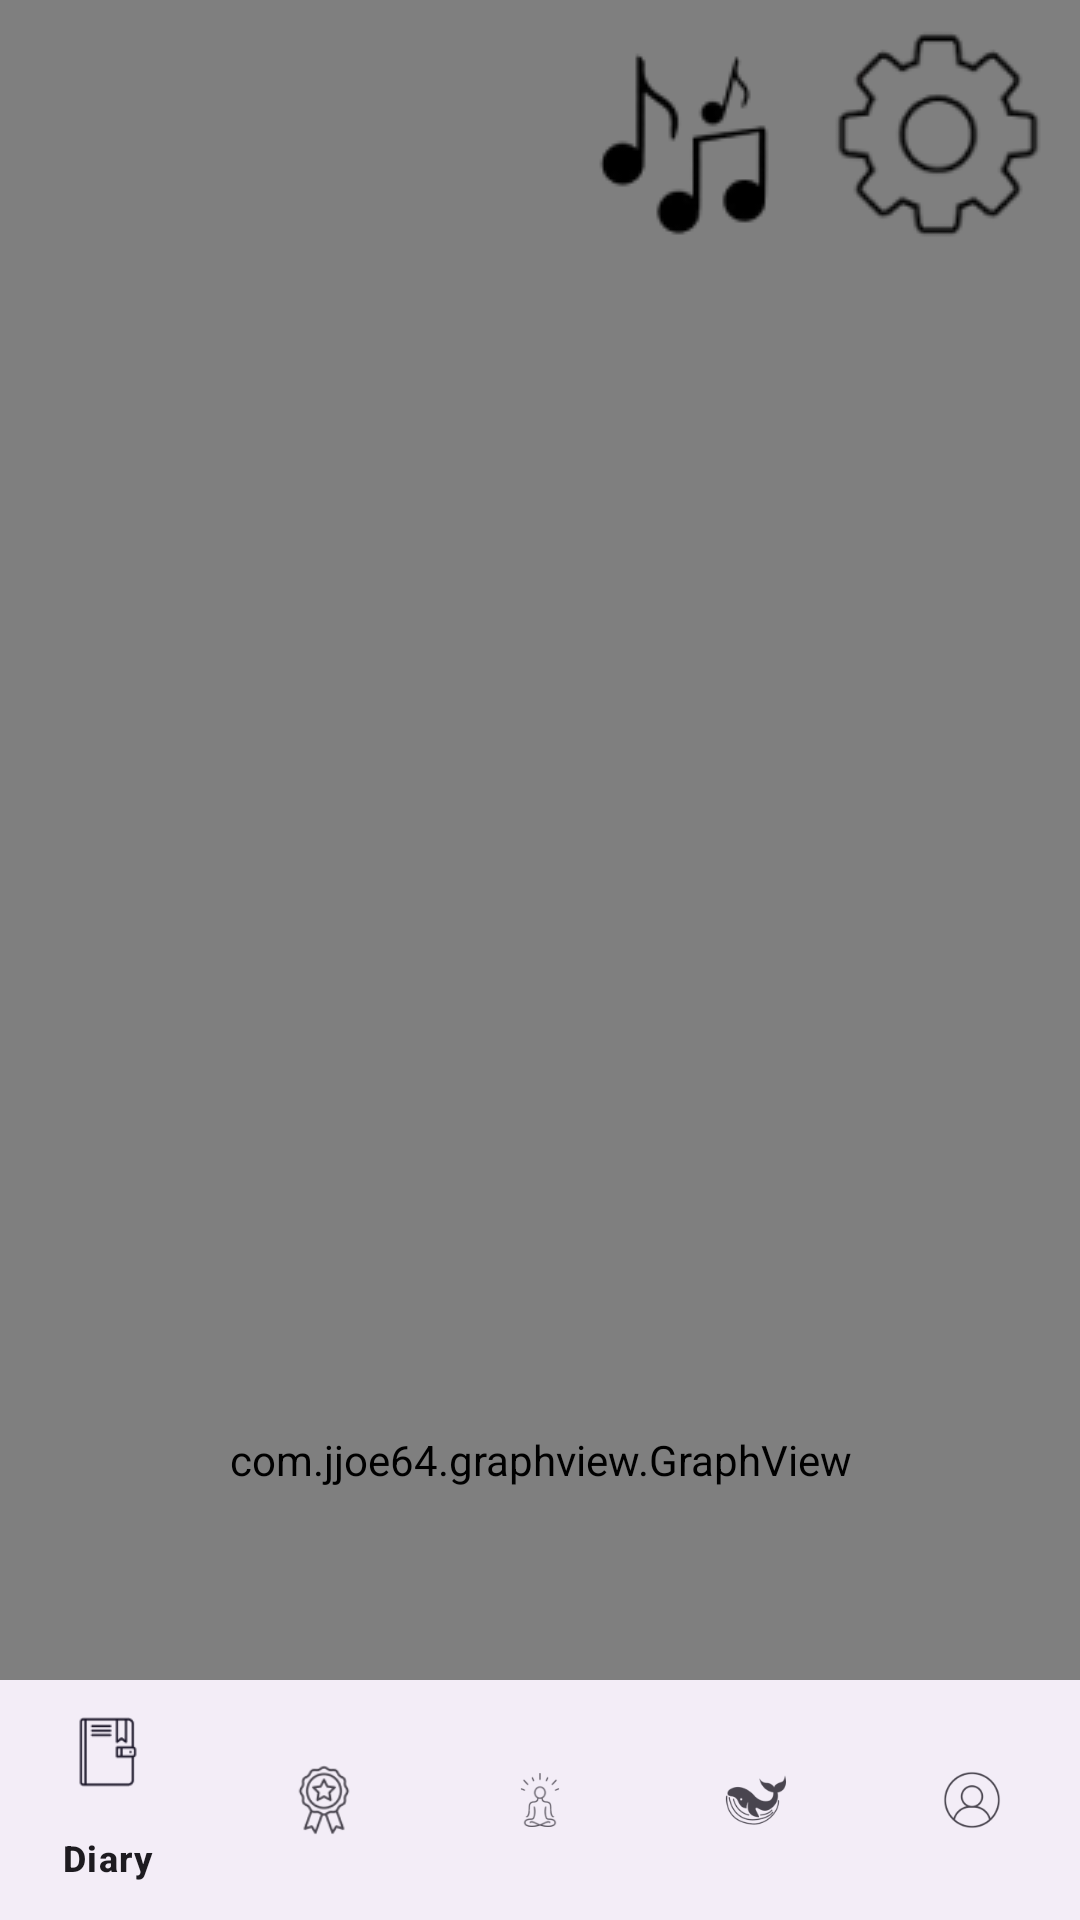

Screen size 1080w x 1920h. Icon name, then its center in pixels as [x,y]:
Settings: [938,134]
